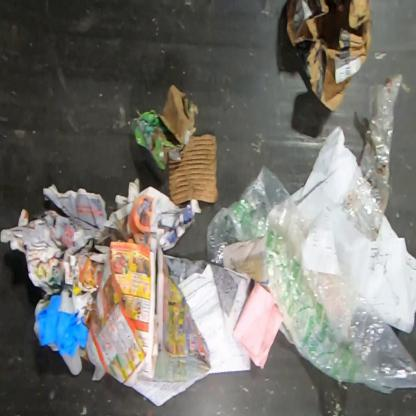cardboard: (286, 0, 373, 113), (130, 84, 200, 171), (168, 134, 219, 206)
soft_plastic: (206, 161, 416, 396), (344, 74, 403, 242)
